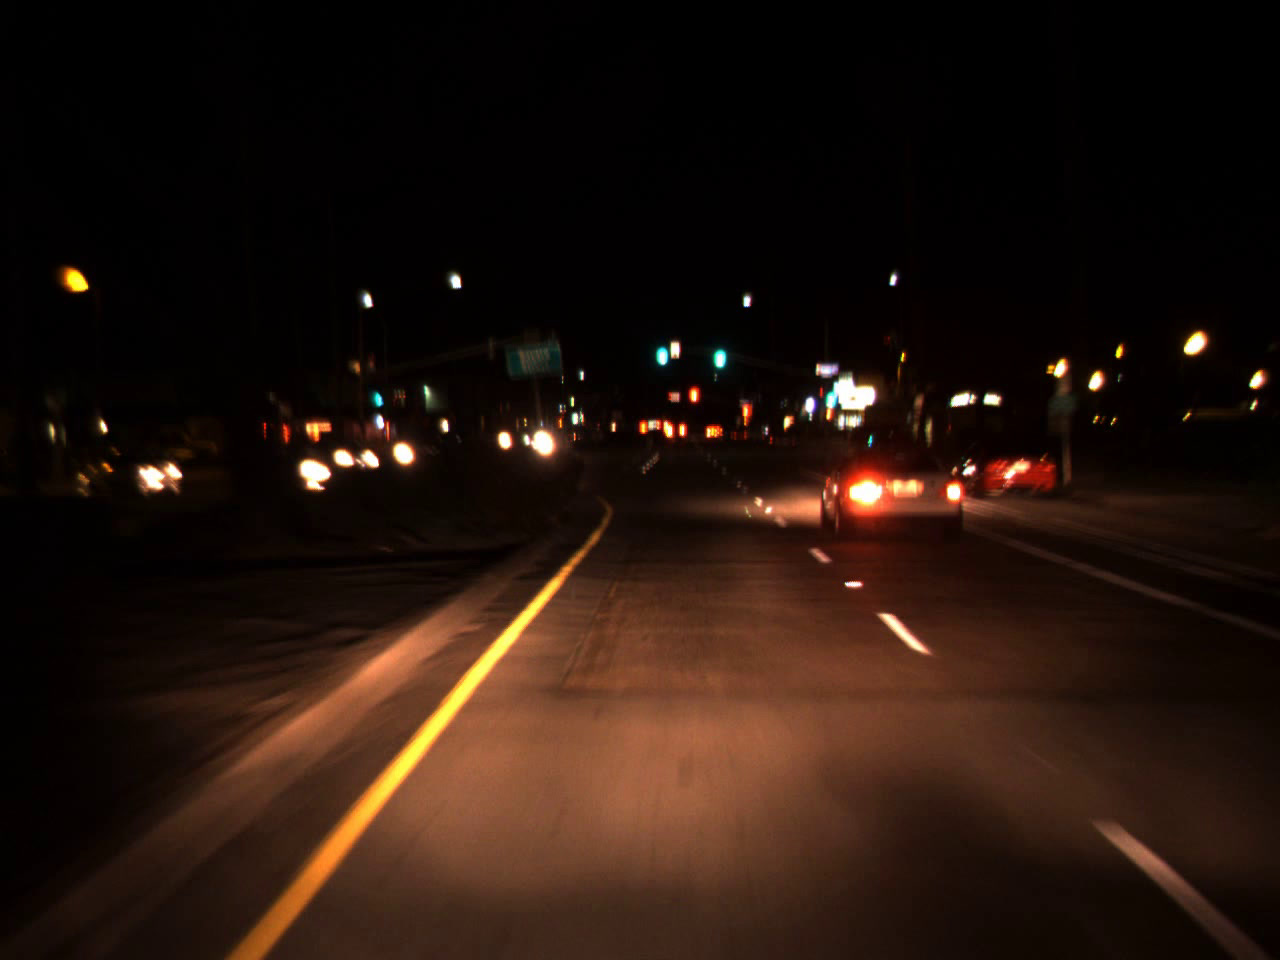go: (708, 329, 727, 371), (653, 328, 669, 367), (821, 380, 839, 410), (374, 376, 381, 412)
stop: (686, 384, 701, 421), (739, 401, 754, 433)
